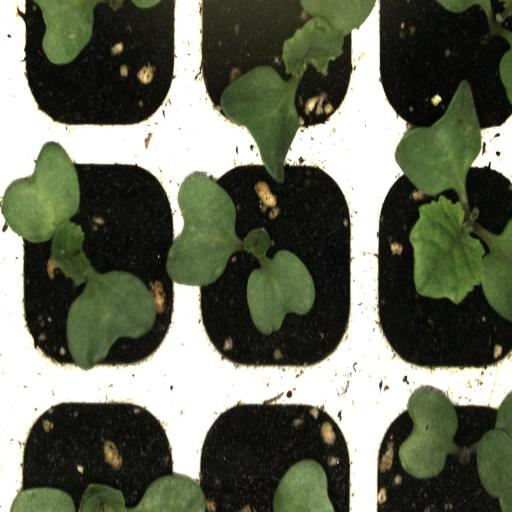Folha: (34, 0, 166, 65), (10, 473, 207, 512), (398, 387, 458, 480), (273, 459, 335, 512)
Germinacao: (183, 150, 364, 388), (13, 148, 181, 384), (361, 150, 512, 385), (186, 0, 362, 144)
